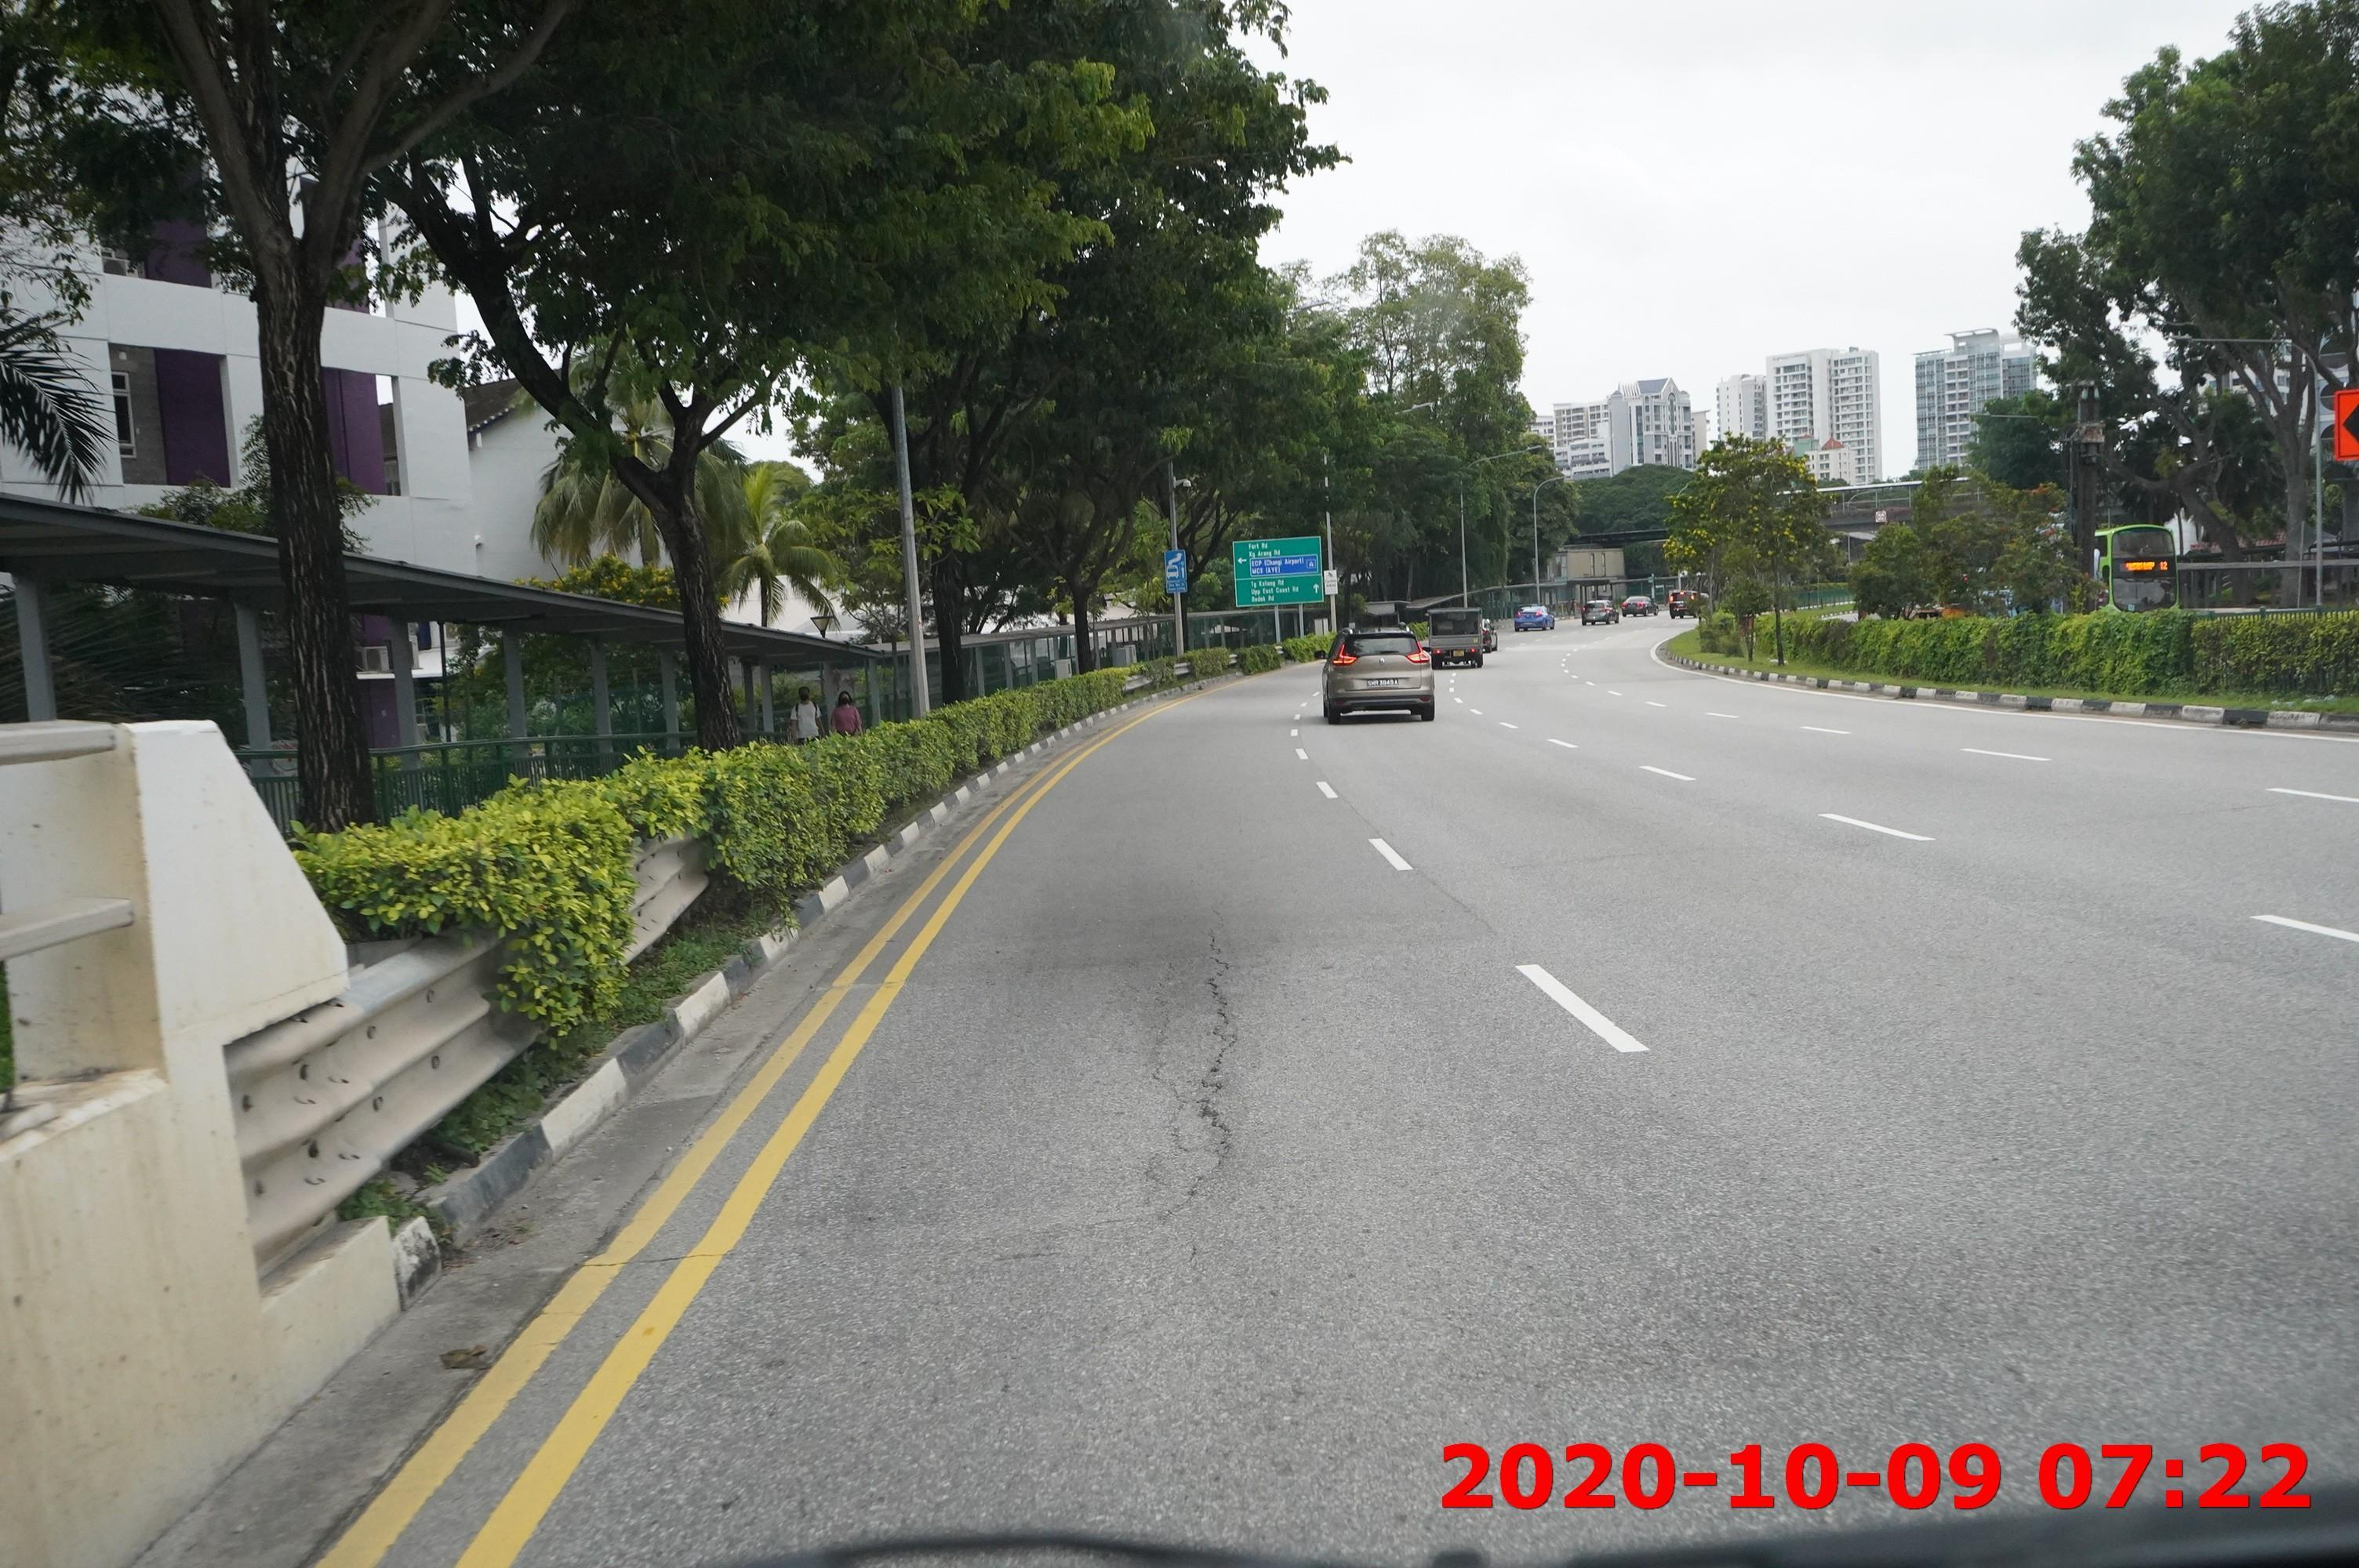single crack: (1144, 921, 1263, 1190)
transverse crack: (528, 1244, 742, 1277)
